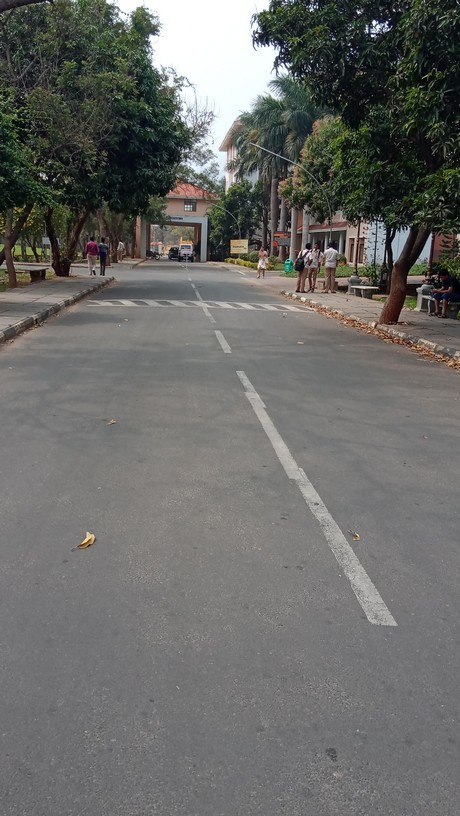bump: (85, 295, 312, 311)
